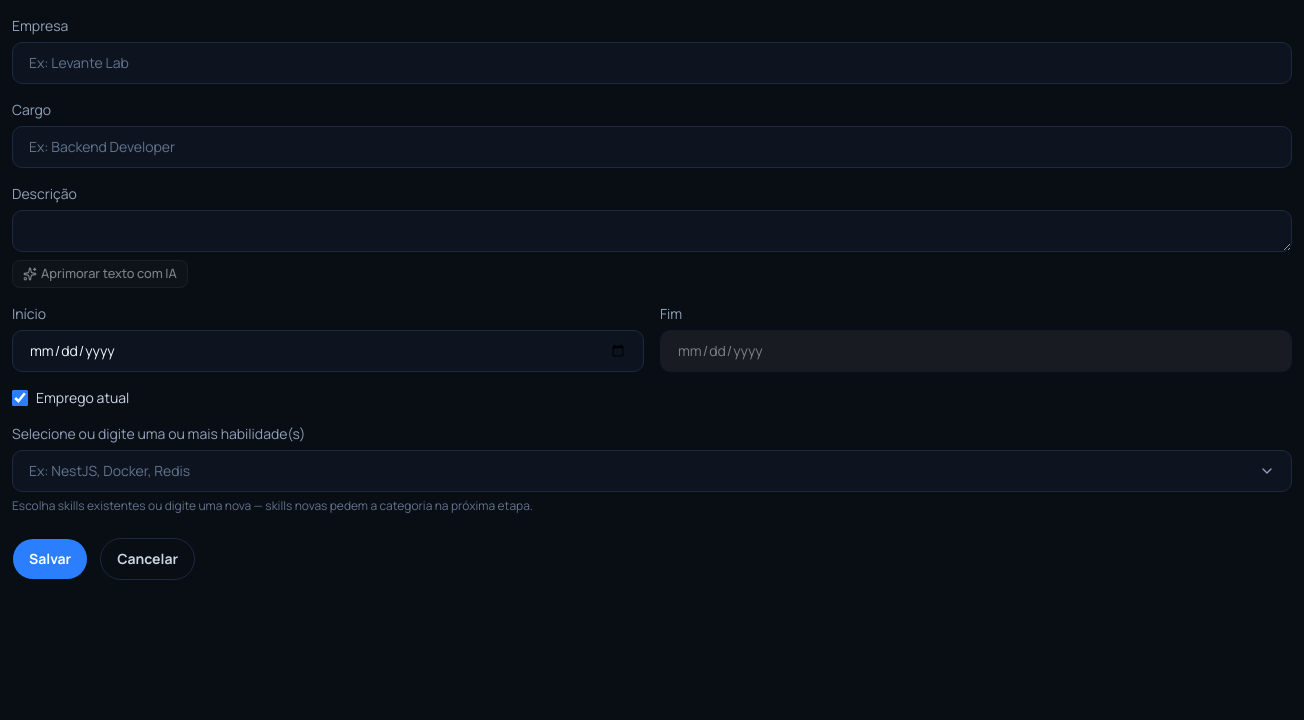
Test case: ExperienceForm › clears the field error once the user fixes the input
Click the button "Salvar". click: coordinates (50, 559)
box: [12, 538, 88, 580]
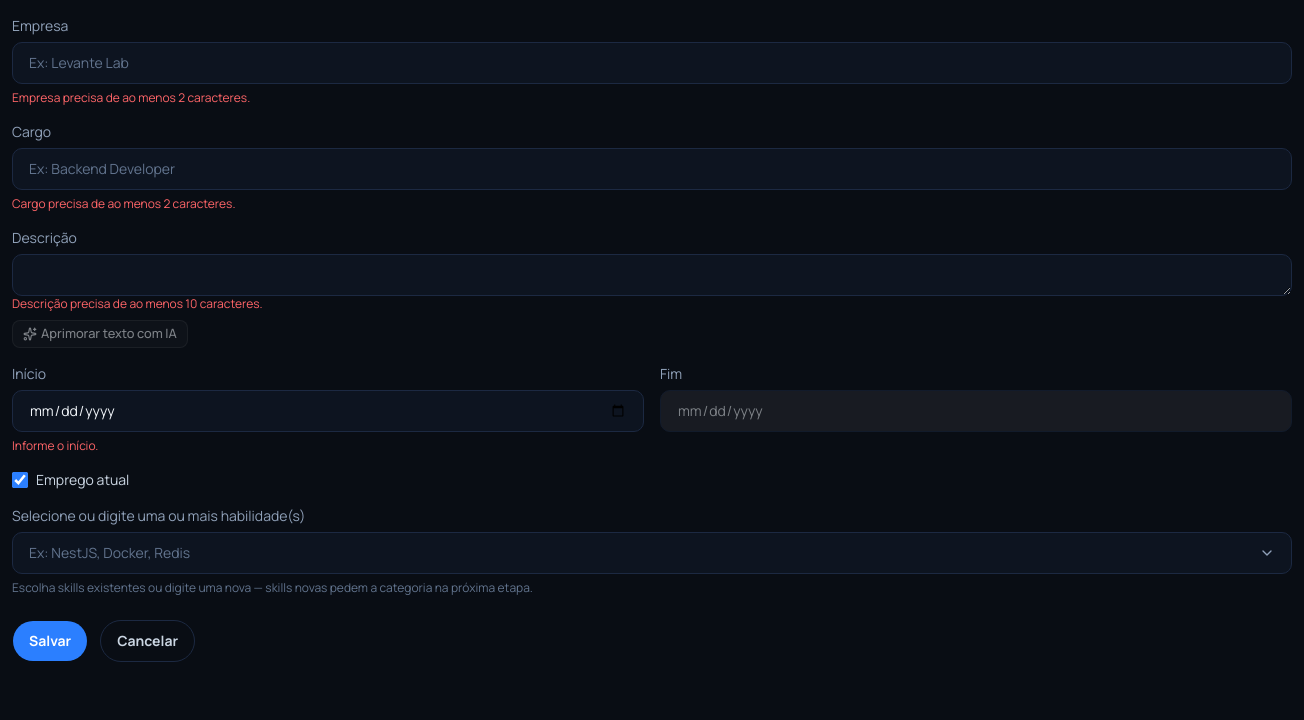
Now the text "Empresa precisa de ao menos 2 caracteres." is shown, box [12, 89, 250, 106]
Type "Levante Lab" into the field with placeholder "Ex: Levante Lab". click: coordinates (652, 63)
box: [12, 42, 1292, 84]
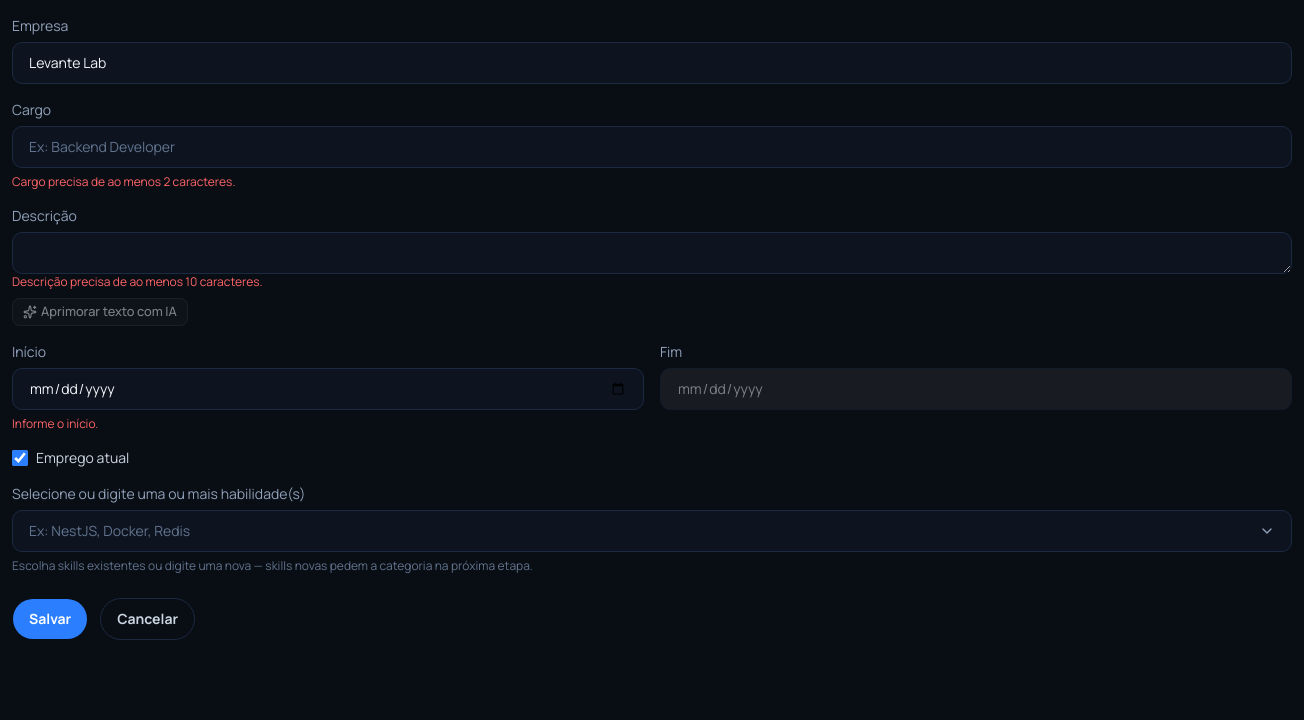
Now the text "Empresa precisa de ao menos 2 caracteres." is gone
